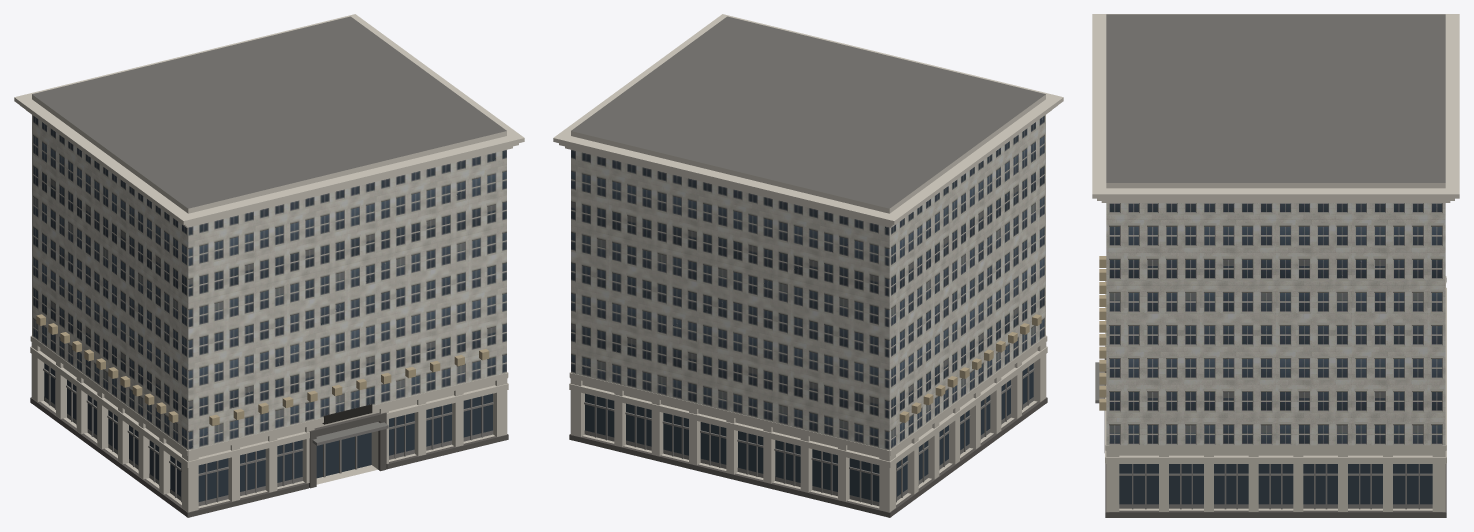
File: arctic_building.glb
3 views of the same model, side by side, from view 1: azimuth 30°, elevation 25°; view 2: azimuth 150°, elevation 25°; view 3: azimuth 270°, elevation 25° (orthographic). The views are drawn at different scales.
Parts seen in each view (by area): view 1: arctic_building; view 2: arctic_building; view 3: arctic_building.
Part boxes in pixels (x1,y1,x2,y2): arctic_building: [14, 14, 524, 517]; arctic_building: [553, 14, 1063, 517]; arctic_building: [1092, 14, 1459, 517].
Size of the model in its own units: 42.8 by 37 by 36.8.
Materials: 2 (2 with a texture image).
